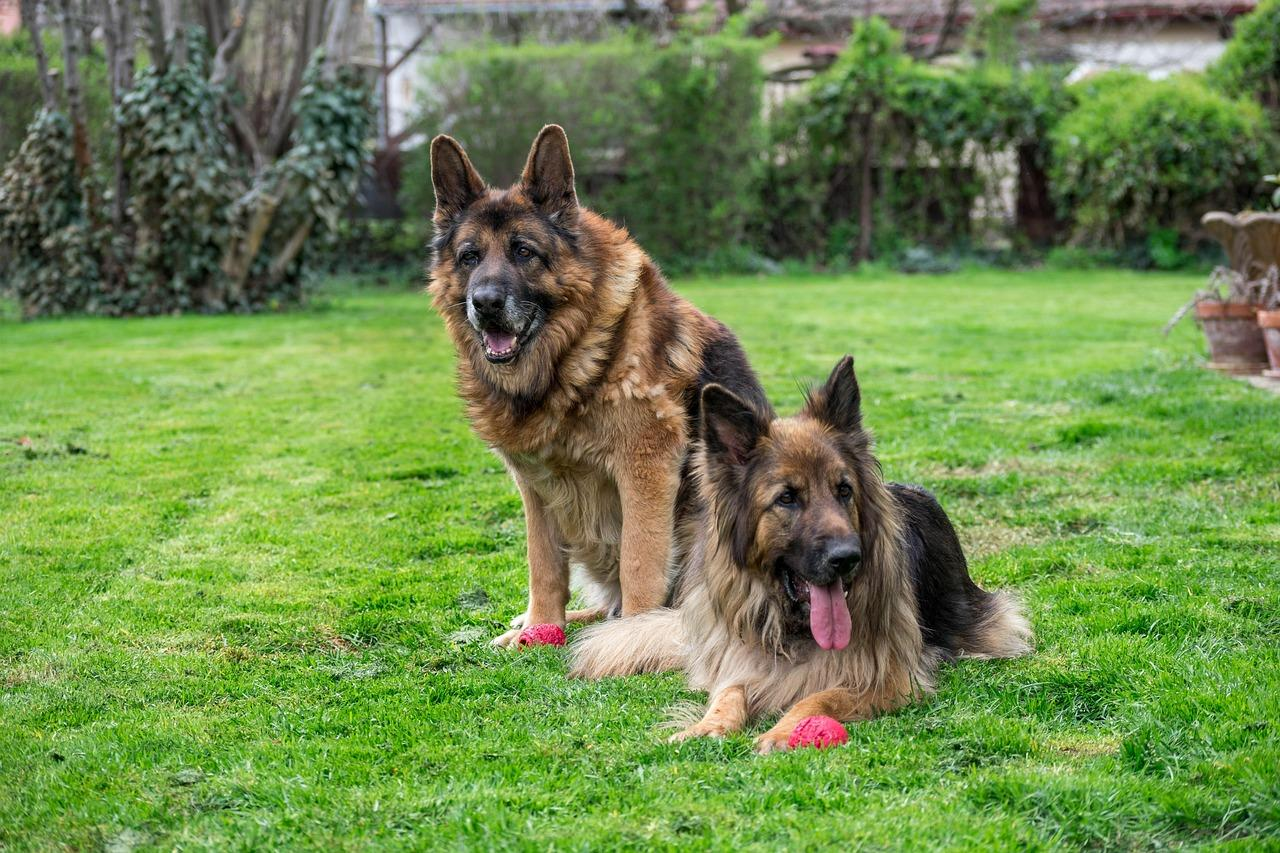german_shepherd: (713, 376, 906, 641), (420, 137, 605, 387)
